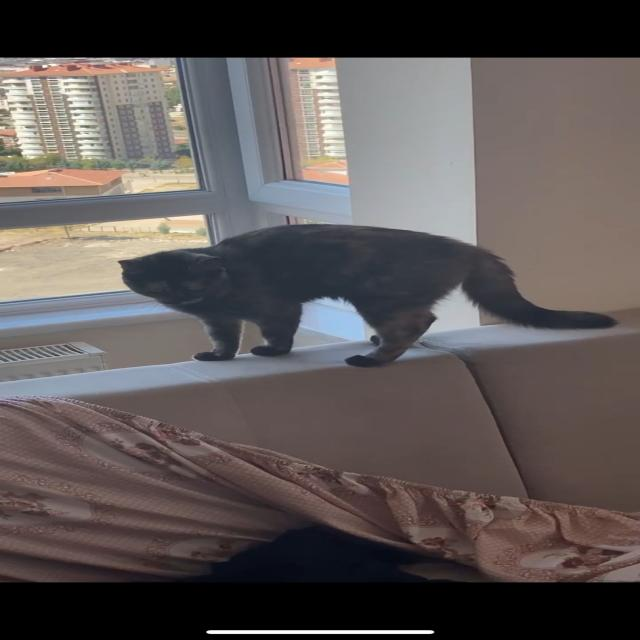authorized: (116, 223, 618, 368)
